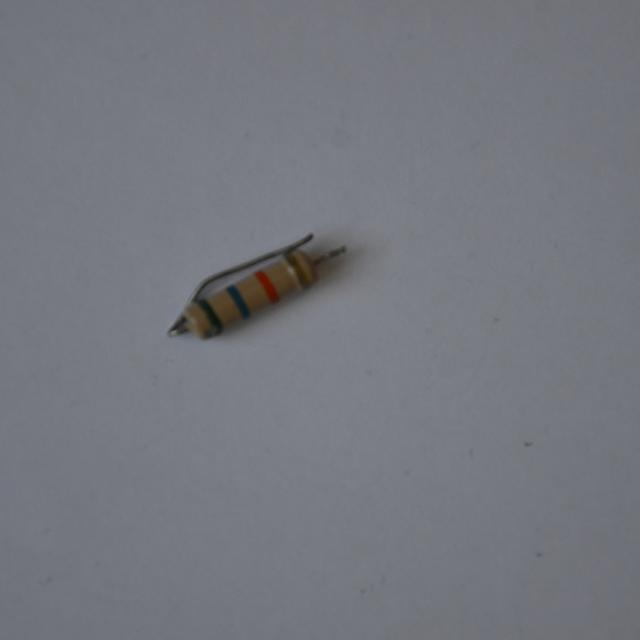blue: (227, 285, 251, 318)
gold: (284, 252, 310, 286)
green: (193, 298, 222, 333)
orange: (255, 272, 277, 302)
resistor: (171, 232, 334, 358)
